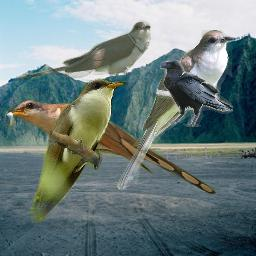Crow: (159, 60, 233, 127)
Cuckoo: (1, 99, 217, 195), (116, 30, 234, 190), (28, 78, 127, 223), (14, 20, 151, 82)
